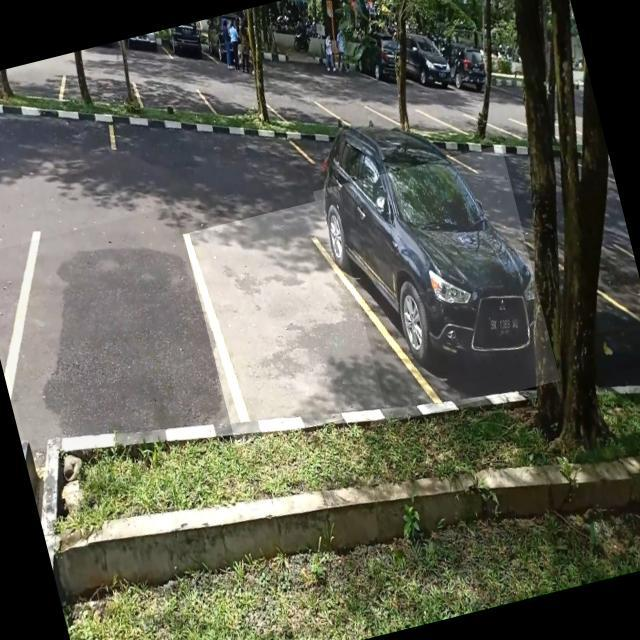empty: (0, 201, 241, 464), (184, 196, 386, 445)
occupied: (312, 144, 560, 427)
